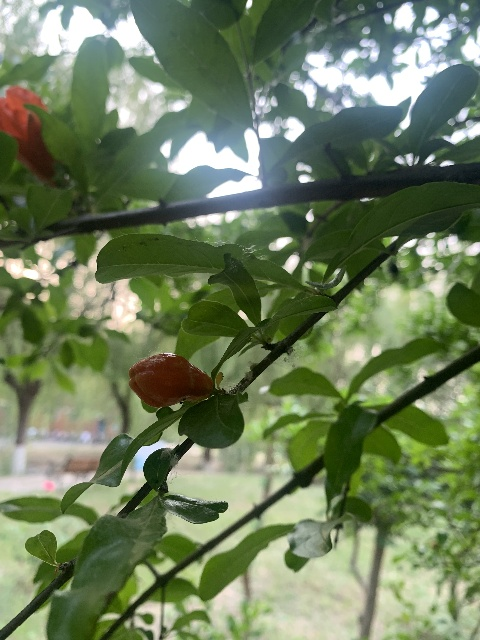bud: (126, 353, 214, 407)
flower: (0, 85, 57, 186)
